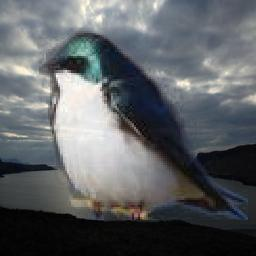Swallow: (40, 28, 249, 220)
